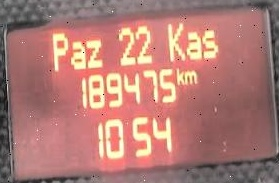0: (103, 116, 124, 158)
1: (96, 121, 103, 158), (80, 75, 87, 109)
2: (116, 26, 135, 65), (134, 23, 151, 63)
4: (151, 114, 172, 152), (123, 71, 140, 104)
5: (131, 115, 151, 157), (158, 66, 175, 103)
7: (141, 69, 157, 102)
8: (87, 73, 104, 108)
9: (104, 70, 122, 107)
X: (166, 20, 185, 62), (51, 30, 68, 72), (68, 39, 86, 70), (84, 38, 102, 68), (184, 29, 201, 59), (201, 29, 218, 58), (182, 69, 197, 84), (175, 66, 184, 85)
